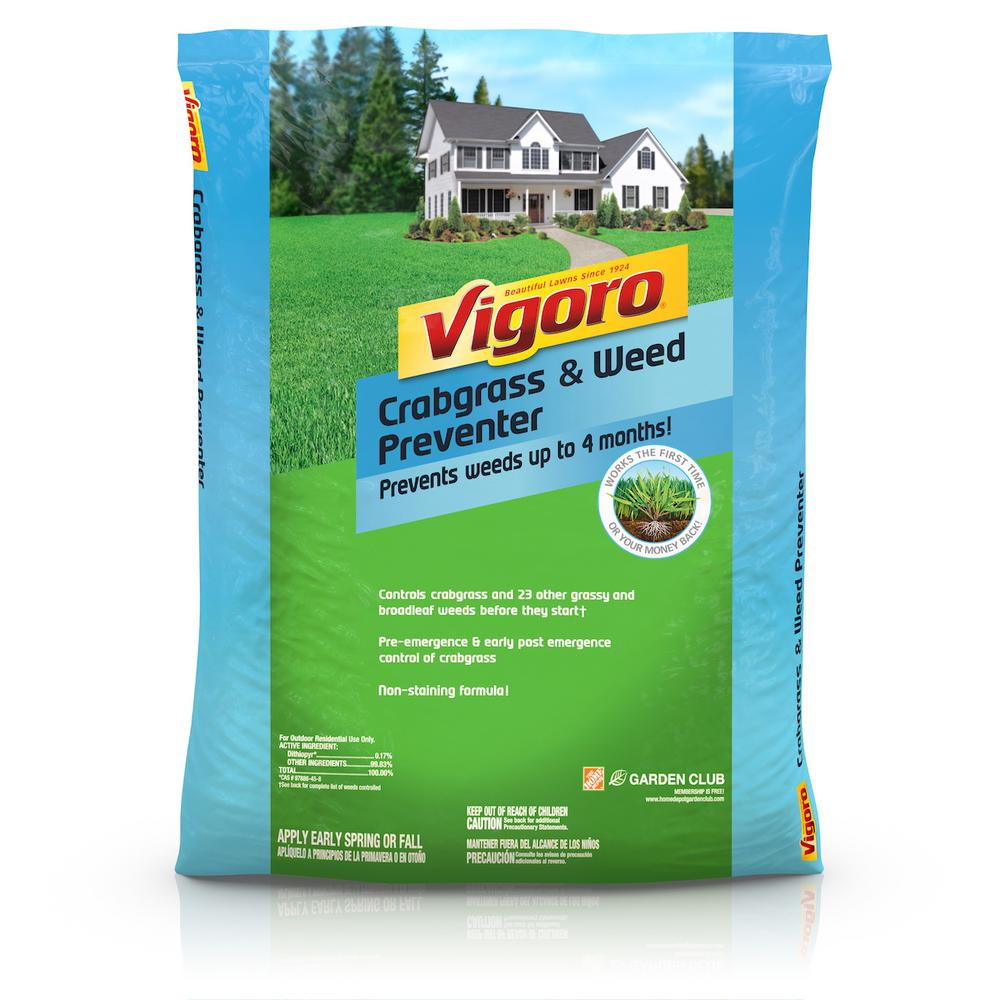crabgrass: (623, 462, 690, 534)
